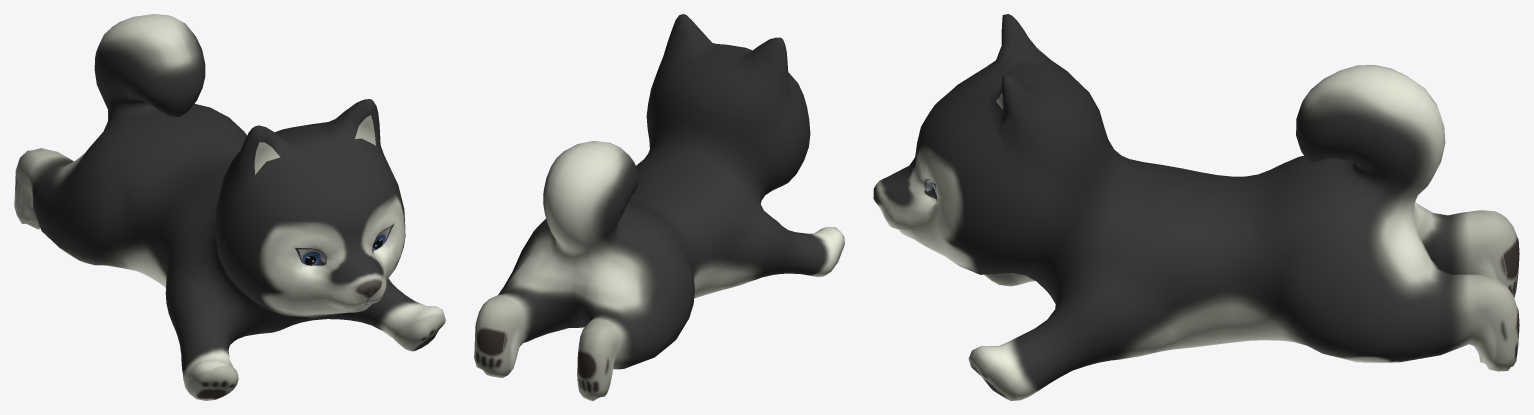
The model's file is dogBL.fbx.
3 renders of one model, left to right at view 1: azimuth 30°, elevation 25°; view 2: azimuth 150°, elevation 25°; view 3: azimuth 270°, elevation 25°, orthographic. The views are drawn at different scales.
Parts seen in each view (by area): view 1: DogeBlack; view 2: DogeBlack; view 3: DogeBlack.
Part boxes in pixels (x1,y1,x2,y2): DogeBlack: [14, 14, 445, 400]; DogeBlack: [474, 14, 844, 400]; DogeBlack: [873, 14, 1519, 400].
Size of the model in its own units: 0.3184 by 0.3224 by 0.6333.
1 material, 1 textured.
